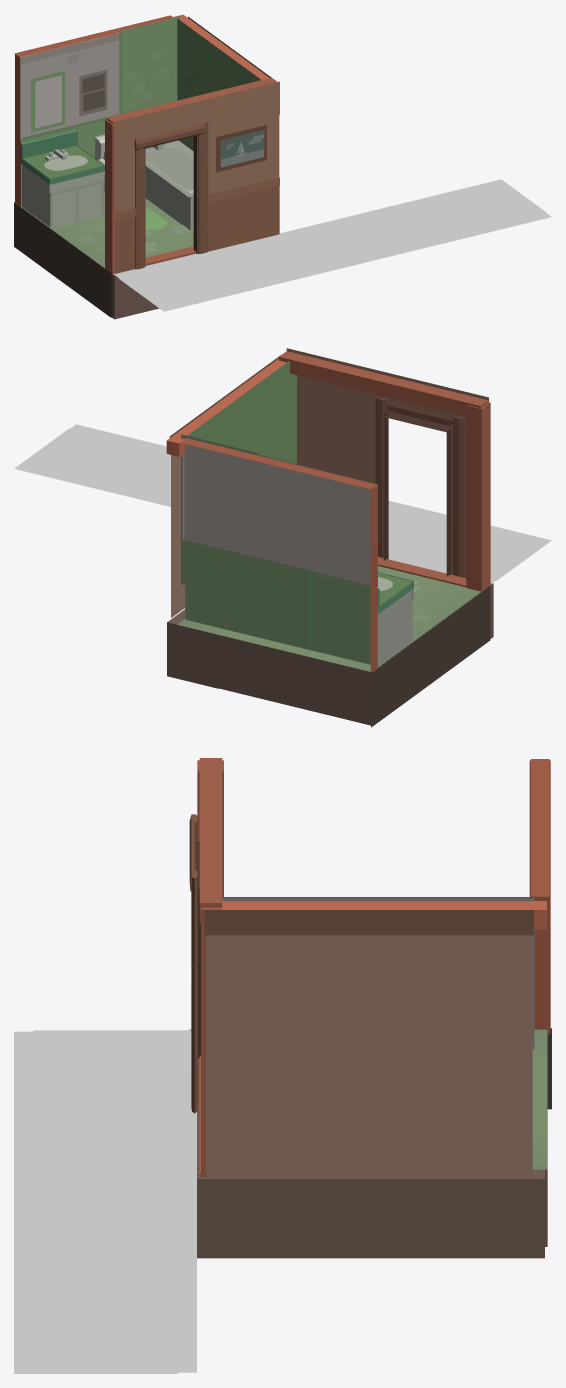
File: Bathroom-v2.fbx
3 renders of one model, top to bottom at view 1: azimuth 30°, elevation 25°; view 2: azimuth 150°, elevation 25°; view 3: azimuth 270°, elevation 25°, orthographic. The views are drawn at different scales.
Visible parts, largest first — view 1: bathroomwall3, Hallway, Bathroomwall1, Bathroomfloor, Sink, Bathroomwall2, Tub; view 2: Bathroomwall1, Bathroomfloor, bathroomwall3, Hallway, Bathroomwall2, Sink; view 3: Bathroomwall2, Hallway, Bathroomfloor, bathroomwall3, Bathroomwall1.
Part boxes in pixels (x1=…): bathroomwall3: x1=105, y1=78, x2=279, y2=274; Hallway: x1=114, y1=179, x2=551, y2=311; Bathroomwall1: x1=15, y1=15, x2=180, y2=206; Bathroomfloor: x1=14, y1=134, x2=264, y2=319; Sink: x1=20, y1=130, x2=104, y2=227; Bathroomwall2: x1=173, y1=14, x2=279, y2=177; Tub: x1=145, y1=140, x2=193, y2=230; Bathroomwall1: x1=181, y1=434, x2=377, y2=675; Bathroomfloor: x1=167, y1=557, x2=493, y2=727; bathroomwall3: x1=279, y1=348, x2=490, y2=591; Hallway: x1=14, y1=424, x2=551, y2=583; Bathroomwall2: x1=166, y1=355, x2=296, y2=619; Sink: x1=310, y1=572, x2=413, y2=666; Bathroomwall2: x1=201, y1=897, x2=547, y2=1178; Hallway: x1=14, y1=1030, x2=196, y2=1373; Bathroomfloor: x1=189, y1=1028, x2=551, y2=1258; bathroomwall3: x1=189, y1=758, x2=223, y2=1113; Bathroomwall1: x1=529, y1=759, x2=550, y2=1034.
Size of the model in its own units: 11.13 by 5.38 by 7.37.
